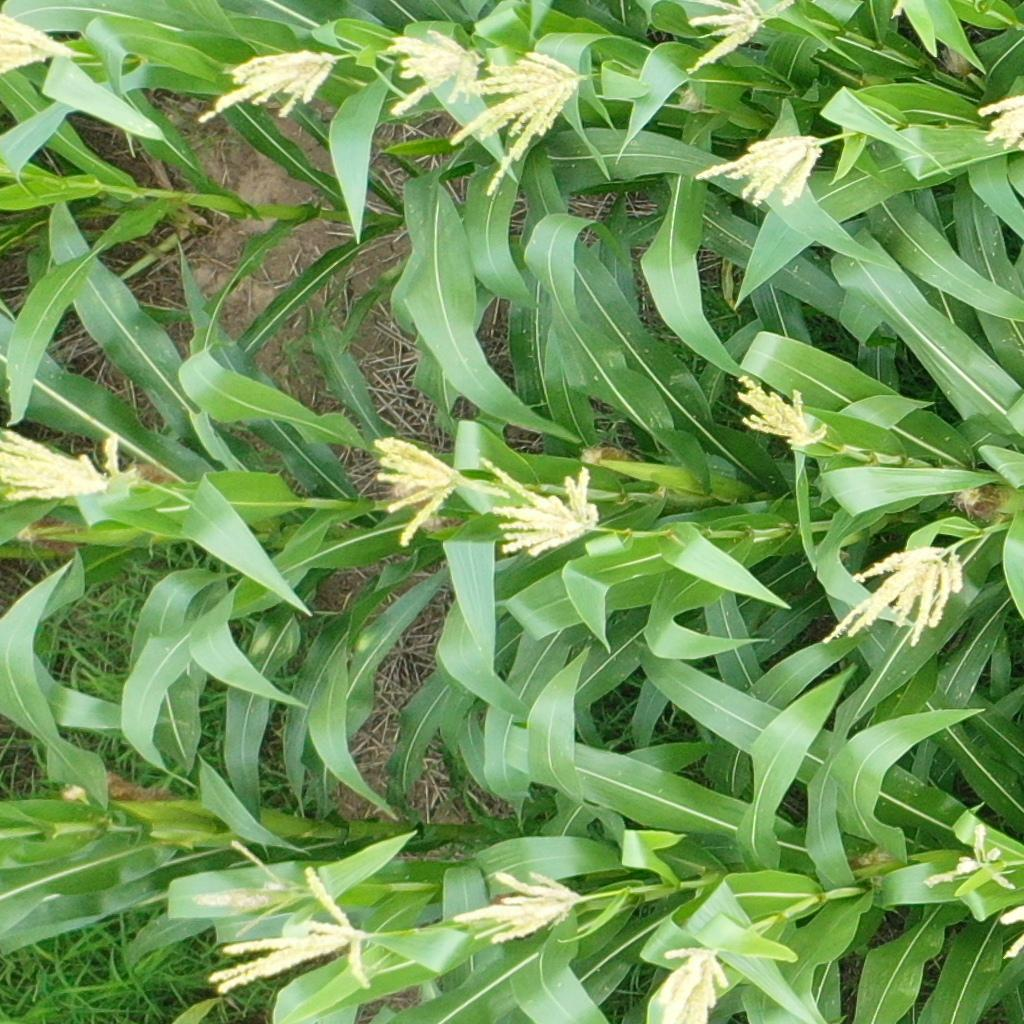Tassel: (205, 867, 378, 999), (449, 49, 586, 197), (821, 544, 968, 652), (370, 436, 509, 546), (482, 458, 608, 561), (193, 50, 347, 125), (1, 424, 128, 510), (451, 868, 585, 947), (192, 838, 294, 938), (695, 131, 827, 208), (383, 27, 484, 118), (682, 1, 796, 74), (734, 373, 830, 455), (924, 823, 1018, 895), (656, 943, 731, 1024), (1, 12, 82, 75), (977, 93, 1024, 153), (997, 902, 1024, 962)
